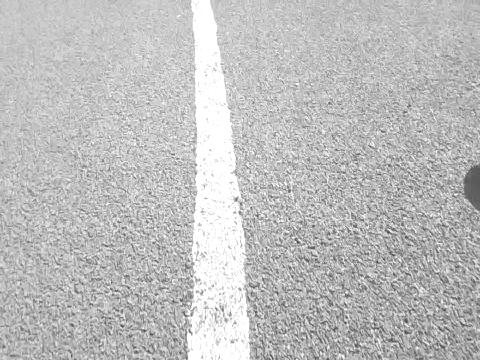Lines: (190, 0, 253, 360)
